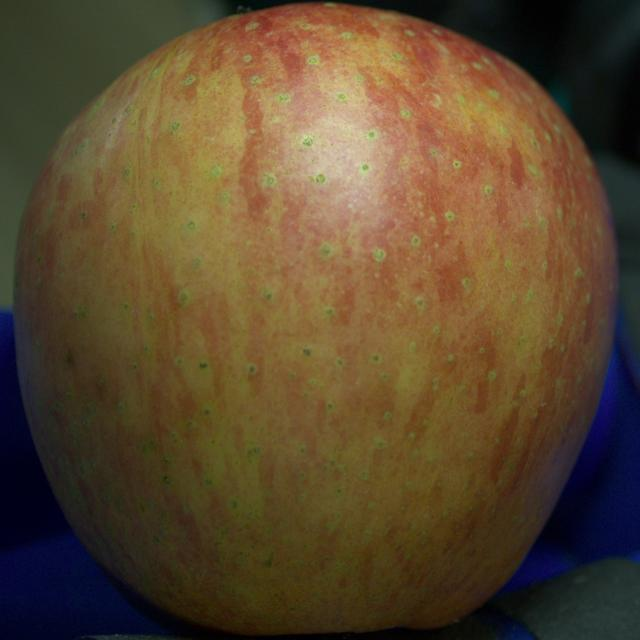apple: (14, 1, 617, 634)
